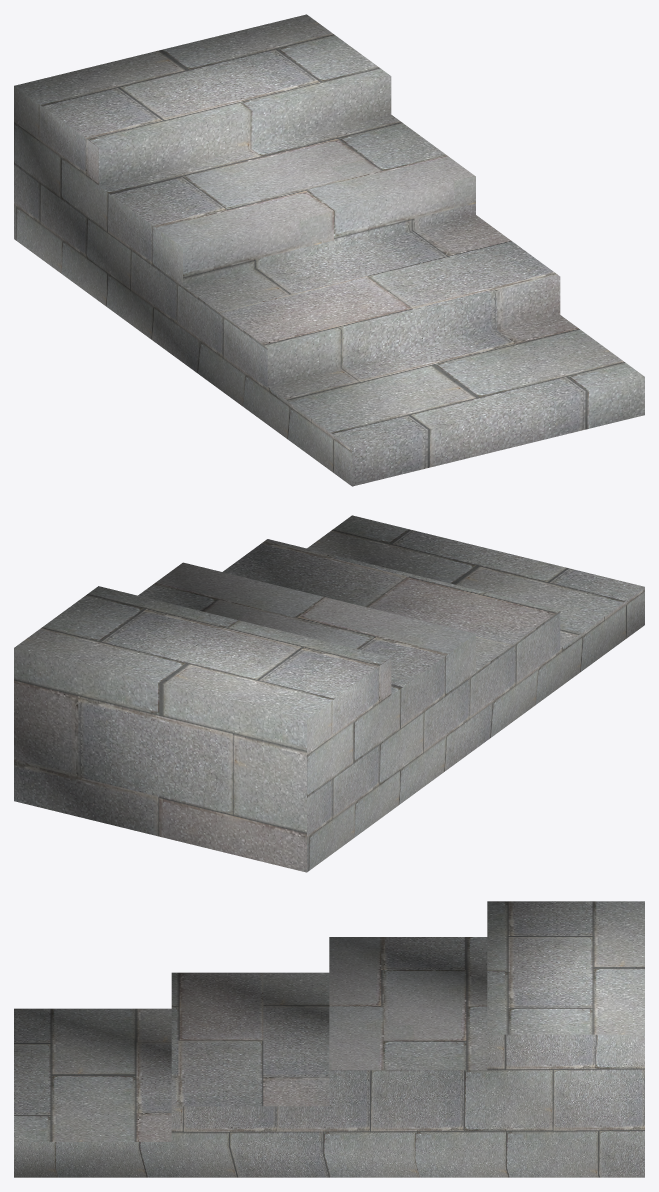
The model's file is PlatformStep.fbx.
3 renders of one model, top to bottom at view 1: azimuth 30°, elevation 25°; view 2: azimuth 150°, elevation 25°; view 3: azimuth 270°, elevation 25°, orthographic. The views are drawn at different scales.
Visible parts, largest first — view 1: PlatformStep; view 2: PlatformStep; view 3: PlatformStep.
Part boxes in pixels (left/top/right/bottom): PlatformStep: left=14, top=14, right=644, bottom=486; PlatformStep: left=14, top=515, right=644, bottom=872; PlatformStep: left=14, top=901, right=644, bottom=1177.
Bounding box in the file's own units: 2 × 1 × 4.
